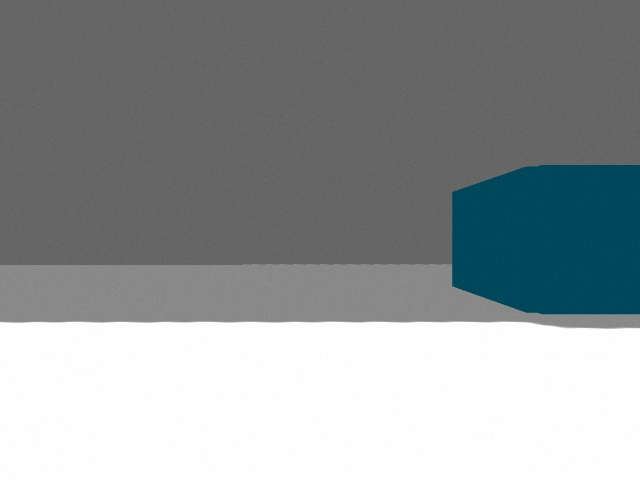blue_drop_zone: (452, 165, 640, 314)
